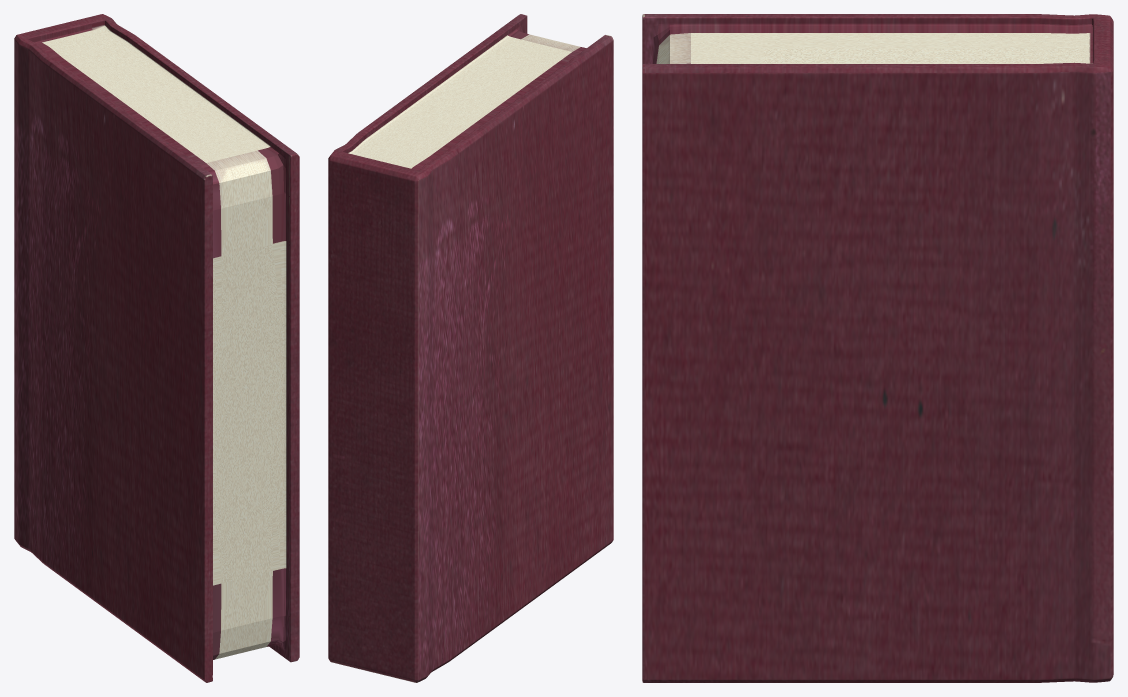
The model's file is book.fbx.
3 renders of one model, left to right at view 1: azimuth 30°, elevation 25°; view 2: azimuth 150°, elevation 25°; view 3: azimuth 270°, elevation 25°, orthographic. The views are drawn at different scales.
Visible parts, largest first — view 1: Cube; view 2: Cube; view 3: Cube.
Part boxes in pixels (x1,y1,x2,y2): Cube: (14,14,299,682); Cube: (328,14,613,682); Cube: (642,14,1113,682).
Bounding box in the file's own units: 120 × 611 × 424.
